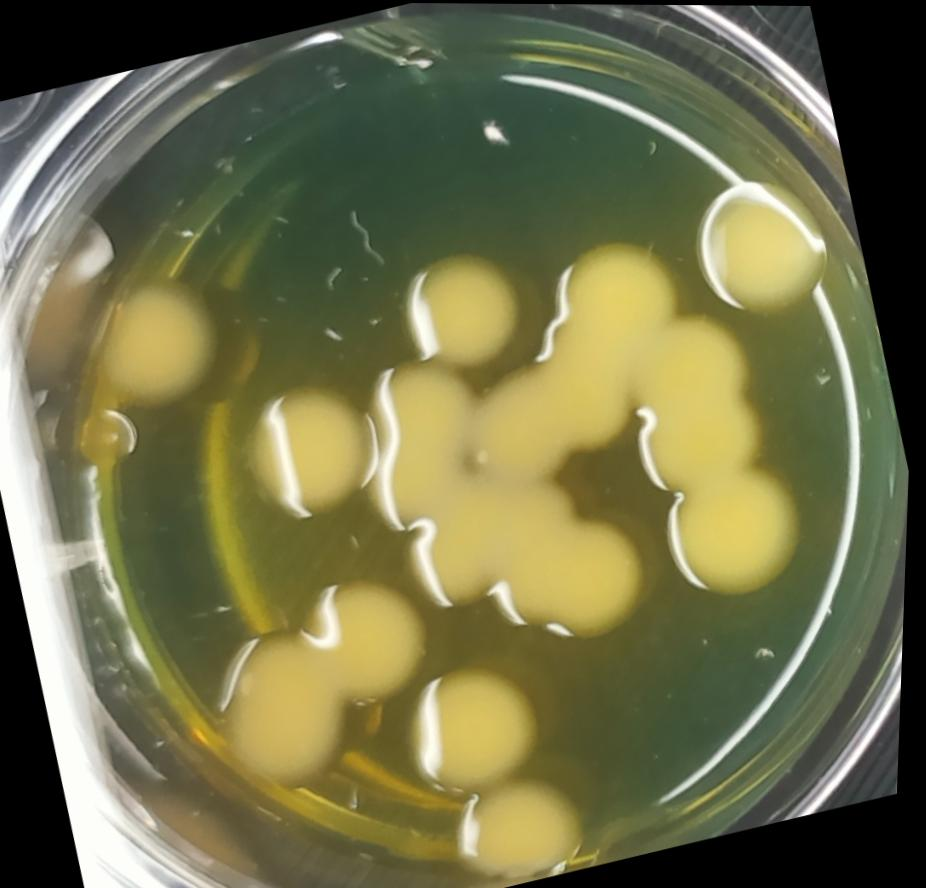valgino: (391, 453, 675, 684), (197, 558, 464, 800), (515, 225, 714, 458), (338, 336, 505, 543), (612, 298, 783, 493), (677, 157, 852, 337), (231, 357, 401, 535), (652, 454, 827, 616), (73, 261, 239, 420), (403, 651, 560, 807), (393, 234, 537, 378), (443, 762, 602, 888), (461, 361, 590, 501)
